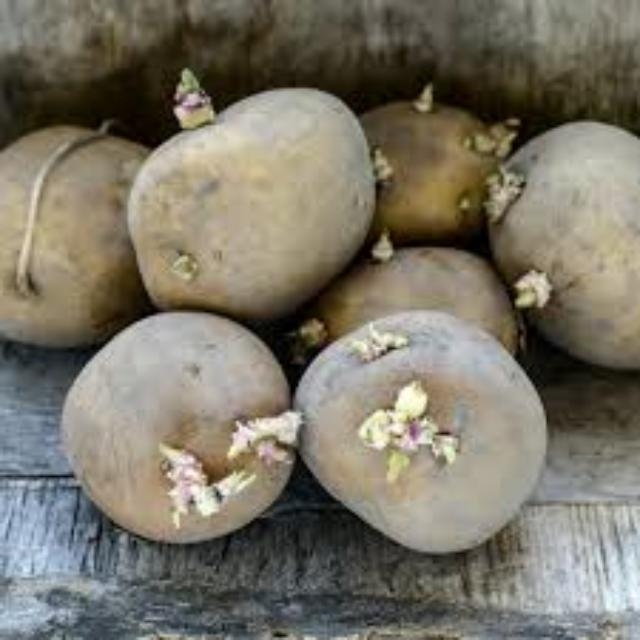Sprouted potato: (260, 278, 564, 584), (110, 56, 388, 334), (55, 300, 313, 558), (280, 216, 546, 394), (1, 105, 188, 358), (478, 114, 640, 376), (307, 66, 533, 252)
